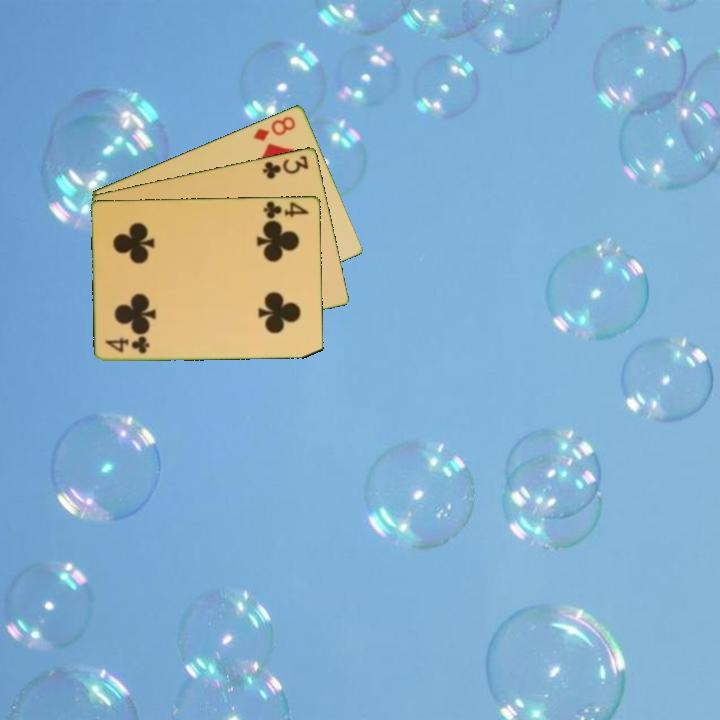3c: (259, 152, 312, 182)
4c: (260, 198, 312, 221), (102, 334, 152, 356)
8d: (250, 112, 299, 144)
